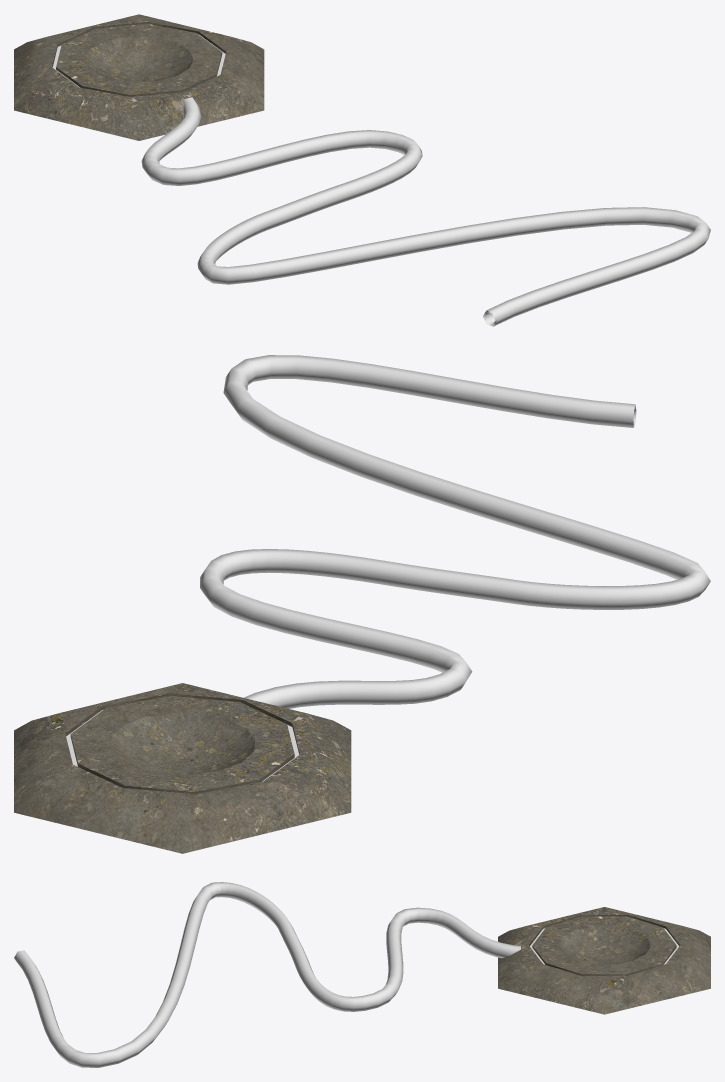
File: Ballplate.fbx
3 views of the same model, one above another, from view 1: azimuth 30°, elevation 25°; view 2: azimuth 150°, elevation 25°; view 3: azimuth 270°, elevation 25° (orthographic). The views are drawn at different scales.
Parts seen in each view (by area): view 1: ベジエカーブ, 円柱; view 2: ベジエカーブ, 円柱; view 3: 円柱, ベジエカーブ.
Part boxes in pixels (x1,y1,x2,y2): ベジエカーブ: (141,97,710,326); 円柱: (14,14,264,140); ベジエカーブ: (200,355,710,708); 円柱: (14,683,351,853); 円柱: (498,907,710,1014); ベジエカーブ: (14,882,520,1067).
Size of the model in its own units: 554 by 25.44 by 921.
